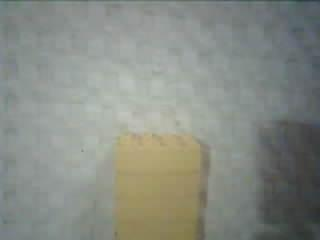lego: (112, 132, 202, 240)
